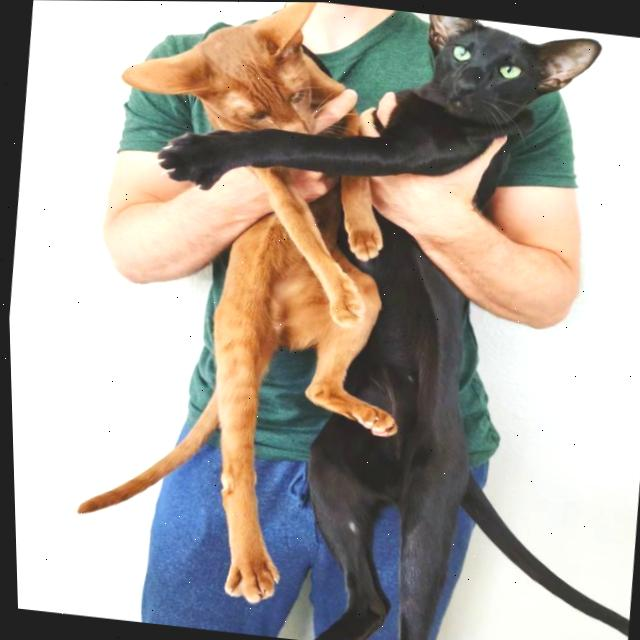Oriental: (45, 0, 438, 619), (260, 2, 640, 640)
